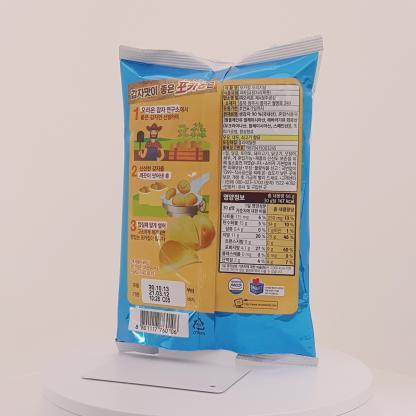Plastic Packaging: (98, 21, 356, 375)
